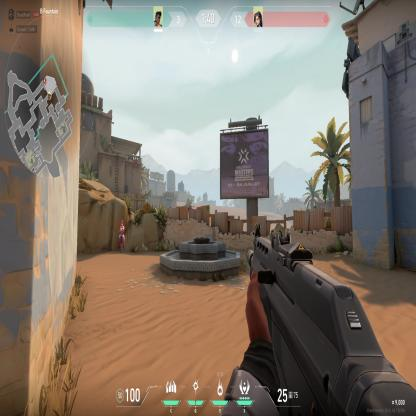enemy: (117, 218, 126, 255)
